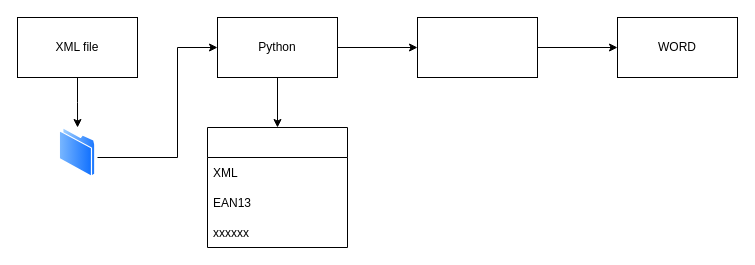
Image size: 755x265. Some labels were removed from this diagram. The shapes that lost their labels are listed below. From the top down, each one's box as (x1, y1, x2, y2) in pixels, then its label:
(416, 16, 538, 78): JPG
(206, 126, 348, 248): Libraries
